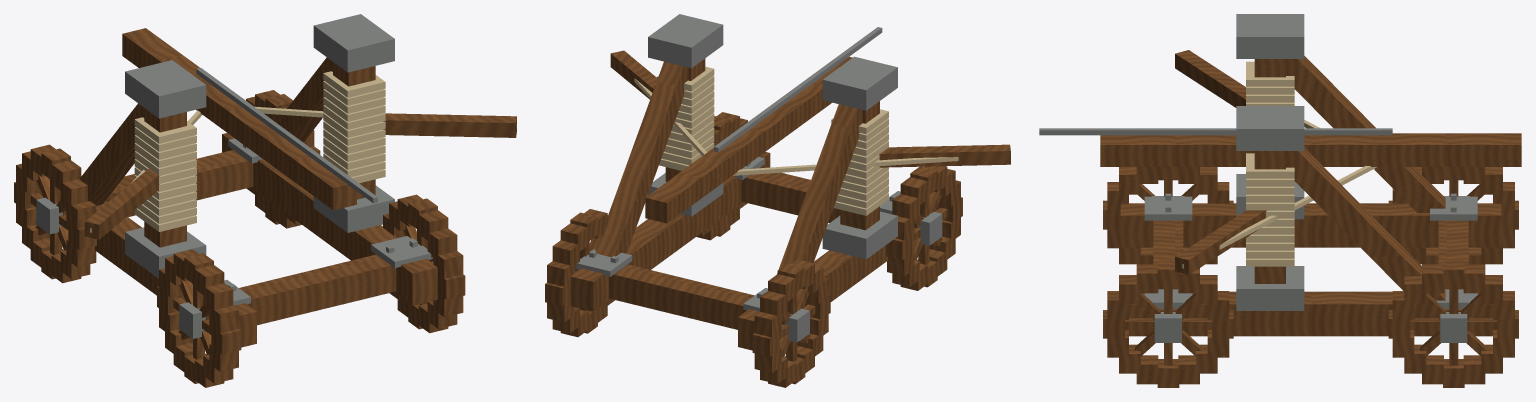
The picture shows the model from 3 angles, left to right: view 1: azimuth 30°, elevation 25°; view 2: azimuth 150°, elevation 25°; view 3: azimuth 270°, elevation 25°; orthographic projection. The views are drawn at different scales.
Size of the model in its own units: 367 by 209 by 355.
Materials: 3 (1 with a texture image).
